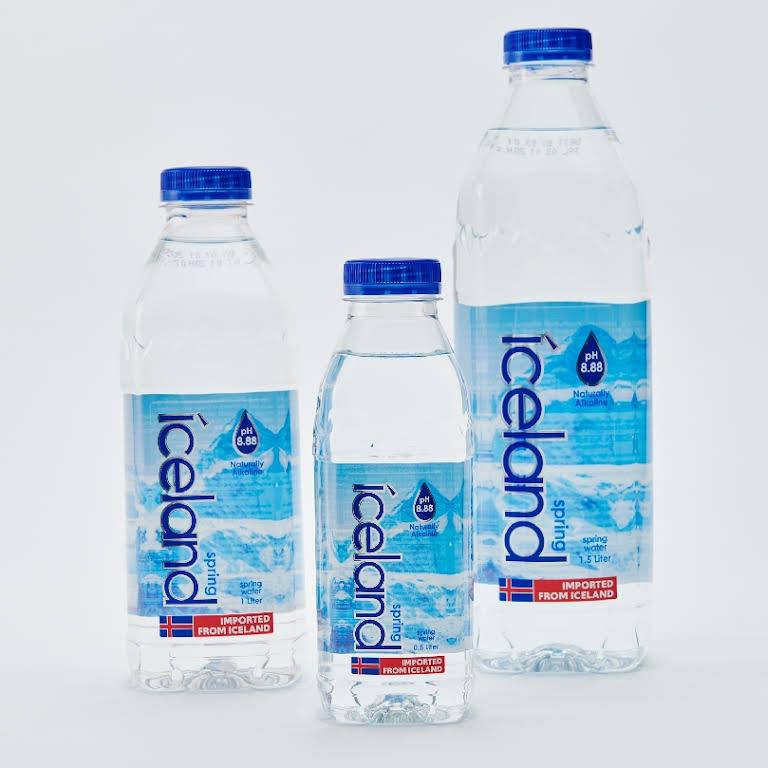plastic_bottle: (450, 19, 663, 675), (115, 159, 318, 705), (319, 242, 477, 738)
